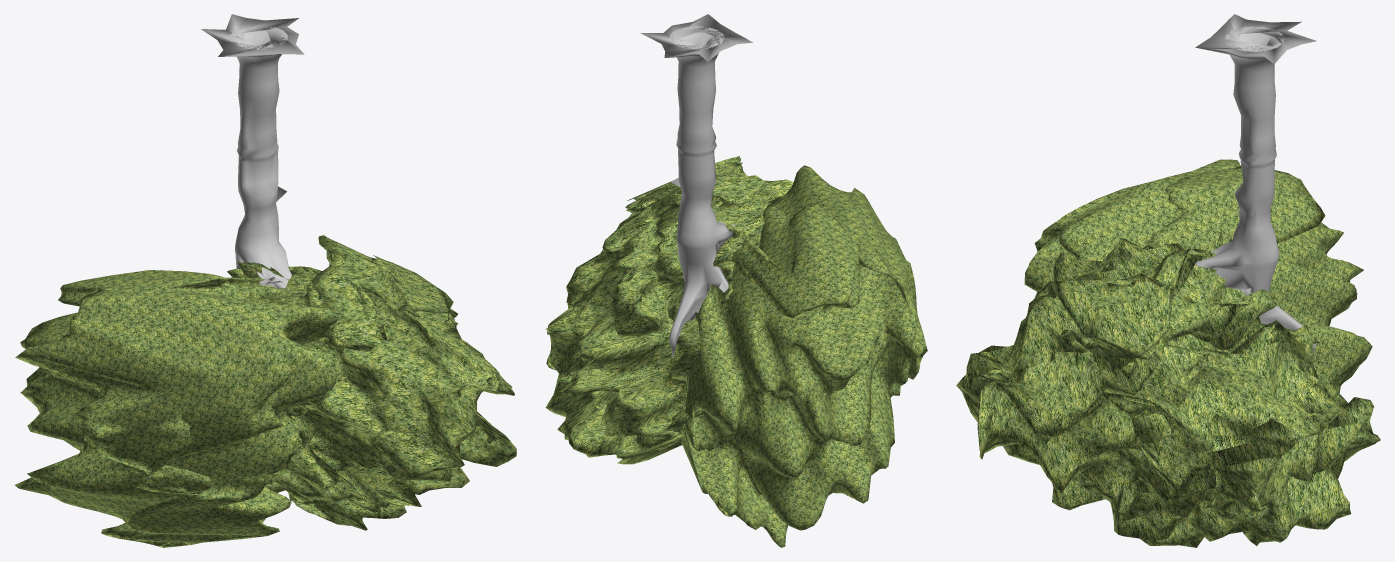
Rendered from tree.gltf.
The picture shows the model from 3 angles, left to right: view 1: azimuth 30°, elevation 25°; view 2: azimuth 150°, elevation 25°; view 3: azimuth 270°, elevation 25°; orthographic projection. The views are drawn at different scales.
Visible parts, largest first — view 1: Plane.001; view 2: Plane.001; view 3: Plane.001.
Part boxes in pixels (x1,y1,x2,y2): Plane.001: (14, 14, 516, 547); Plane.001: (545, 14, 927, 547); Plane.001: (956, 14, 1380, 547).
Size of the model in its own units: 23.97 by 27.84 by 21.37.
